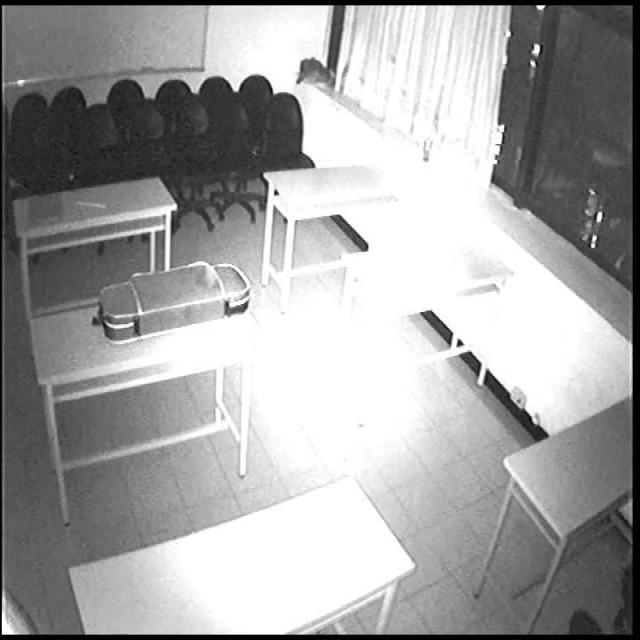abandoned-object: (77, 278, 238, 332)
